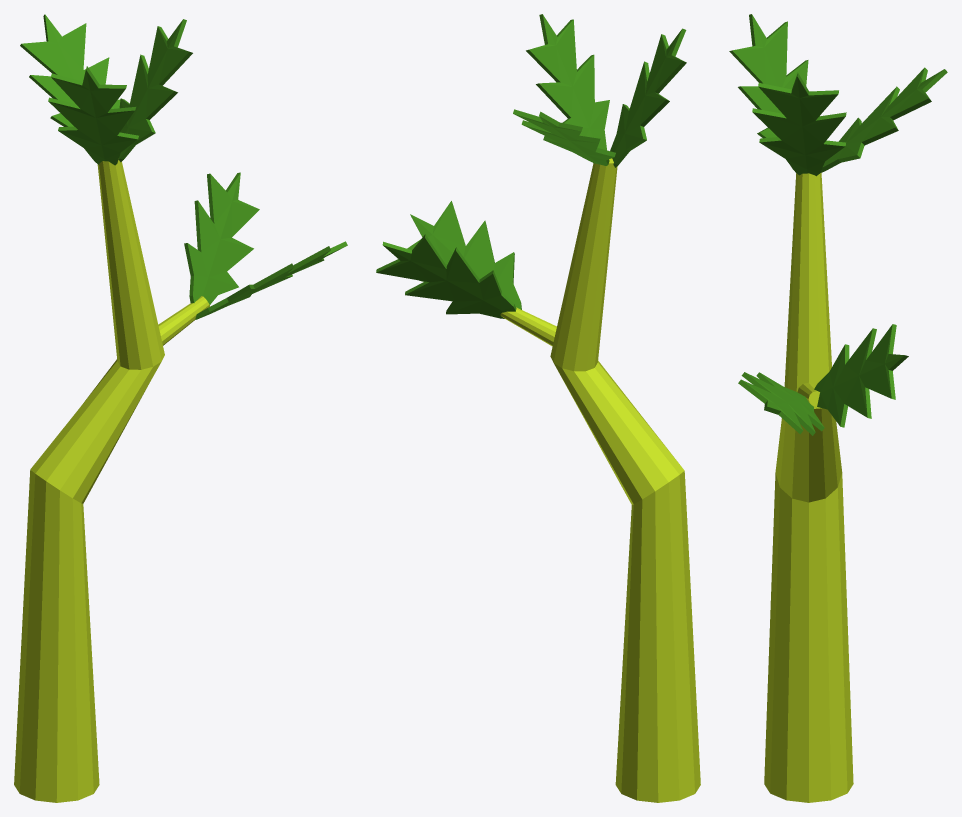
Rendered from OakStage1.fbx.
3 renders of one model, left to right at view 1: azimuth 30°, elevation 25°; view 2: azimuth 150°, elevation 25°; view 3: azimuth 270°, elevation 25°, orthographic. The views are drawn at different scales.
Parts seen in each view (by area): view 1: OakStage1; view 2: OakStage1; view 3: OakStage1.
Boxes of the visible parts, left/top/right/bottom form: OakStage1: left=14, top=14, right=347, bottom=802; OakStage1: left=376, top=14, right=700, bottom=802; OakStage1: left=729, top=14, right=947, bottom=802.
Bounding box in the file's own units: 29.16 × 67.24 × 17.24.
